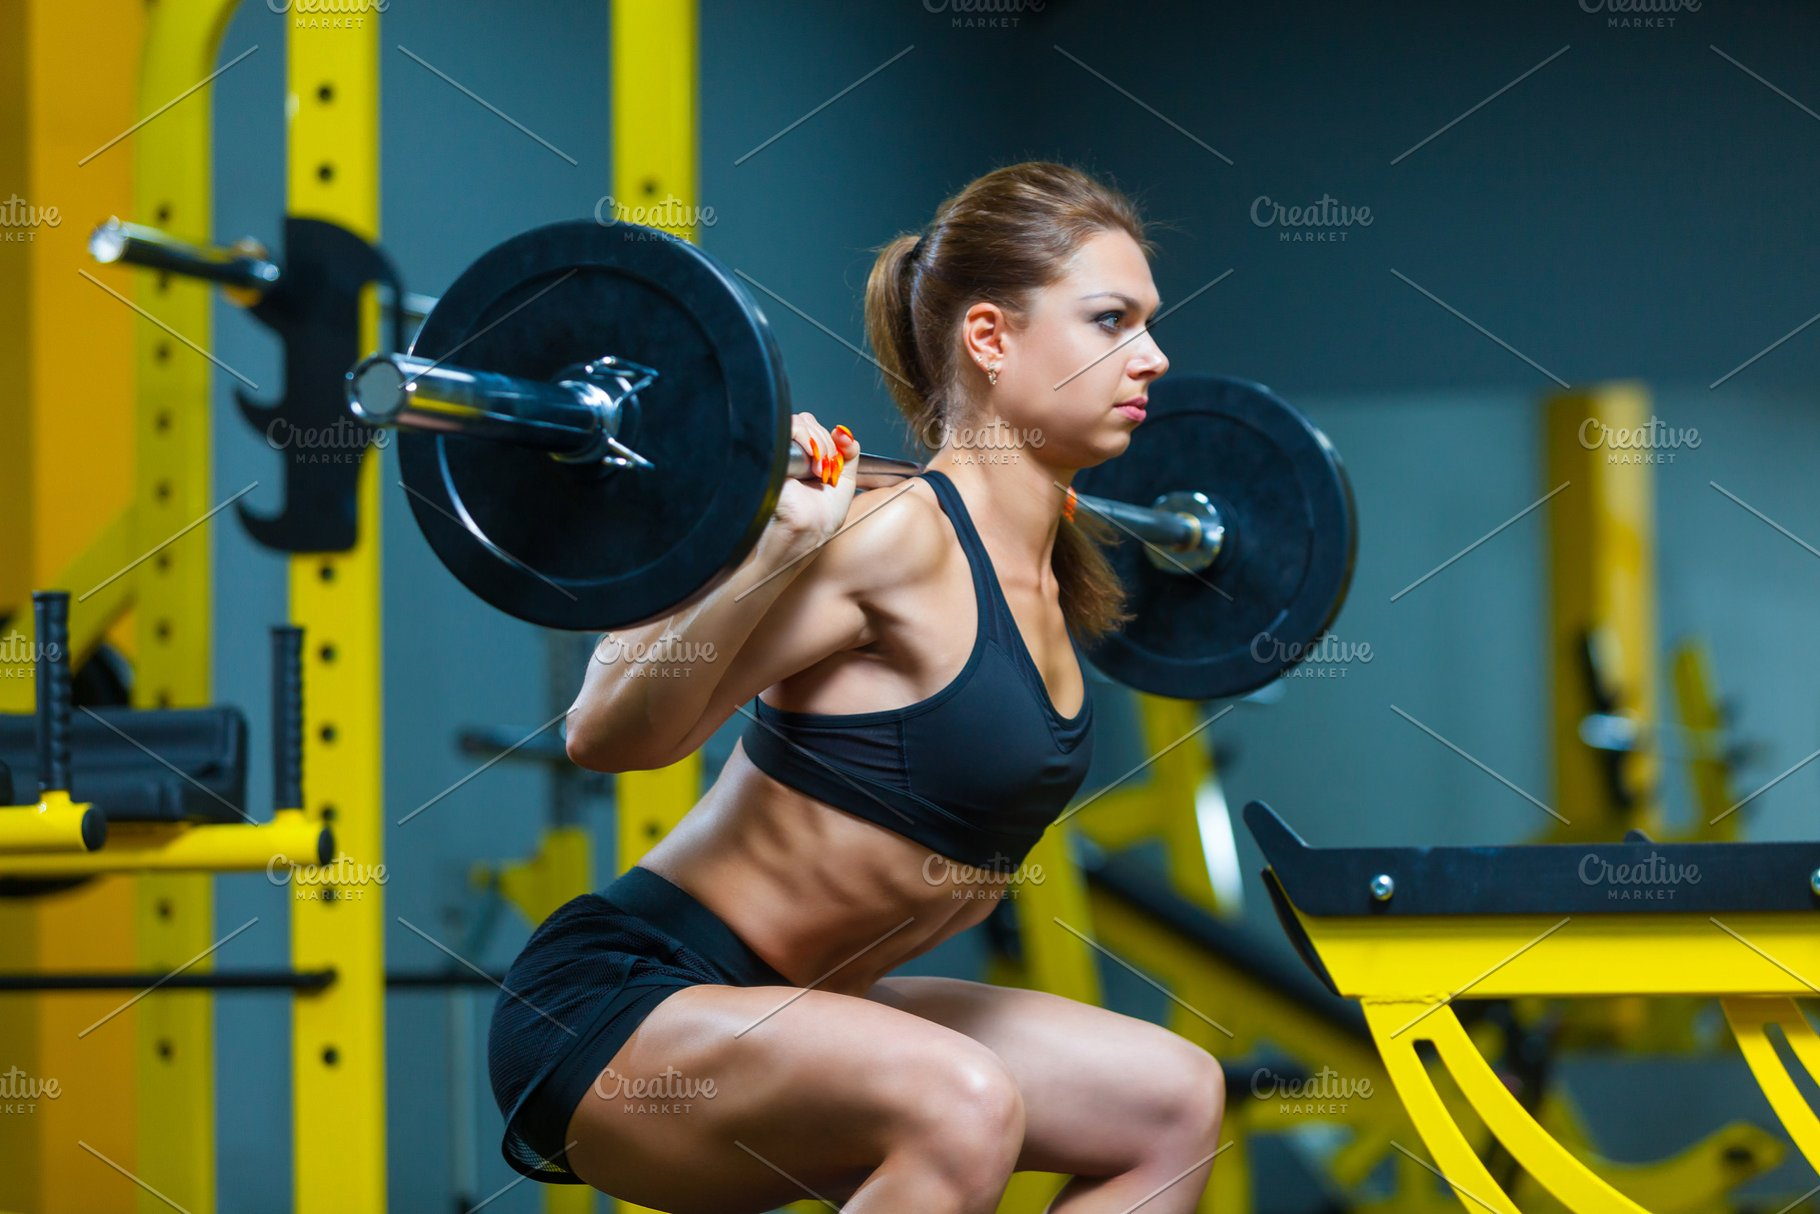barbell: (337, 203, 795, 640)
